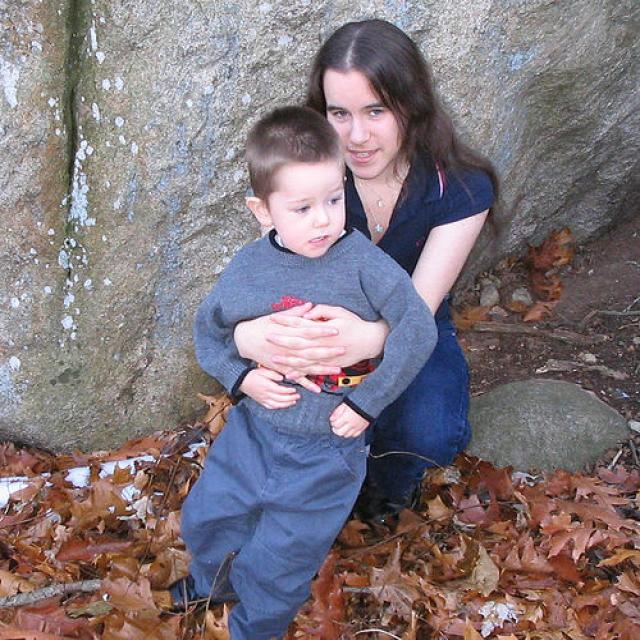person: (167, 106, 440, 640), (234, 18, 496, 531)
